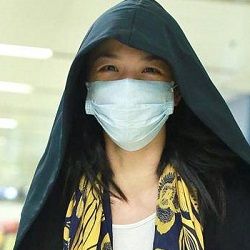mask: (80, 53, 177, 150)
